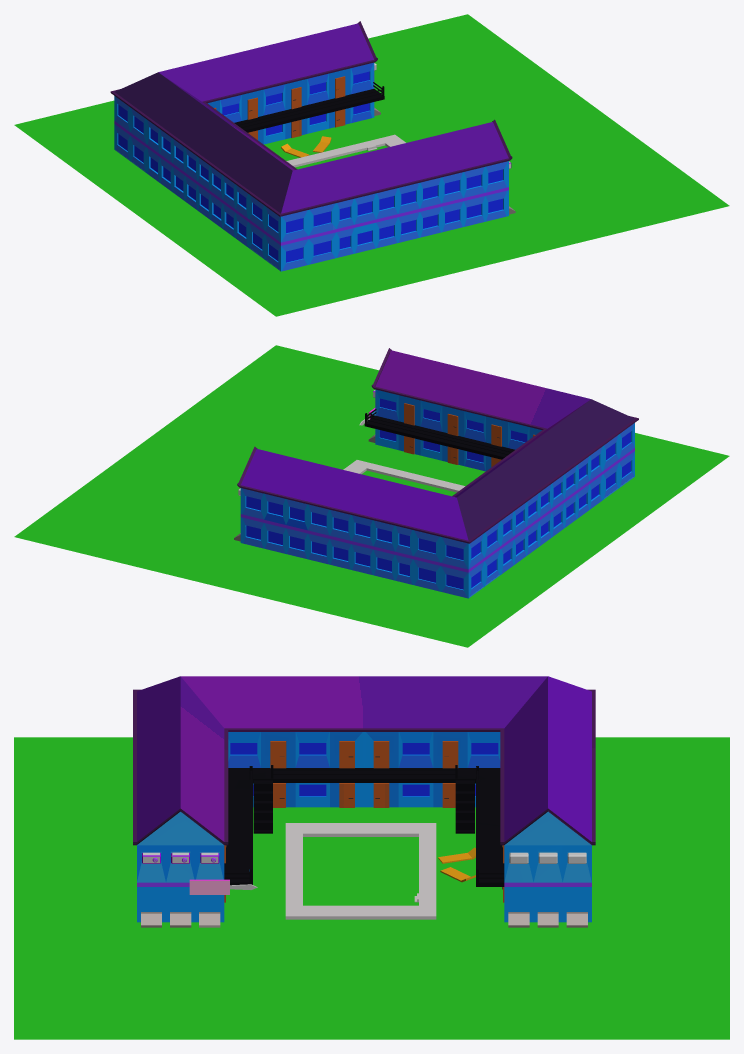
The model's file is 3 Motel.fbx.
3 views of the same model, one above another, from view 1: azimuth 30°, elevation 25°; view 2: azimuth 150°, elevation 25°; view 3: azimuth 270°, elevation 25° (orthographic). The views are drawn at different scales.
Visible parts, largest first — view 1: Plane.004, Cube.019; view 2: Plane.004, Cube.019; view 3: Plane.004, Cube.019.
Part boxes in pixels (x1,y1,x2,y2): Plane.004: [14, 14, 729, 316]; Cube.019: [110, 21, 515, 271]; Plane.004: [14, 345, 729, 647]; Cube.019: [234, 348, 638, 598]; Plane.004: [14, 737, 729, 1039]; Cube.019: [133, 676, 595, 927].
Bounding box in the file's own units: 1002 × 187 × 1002.
